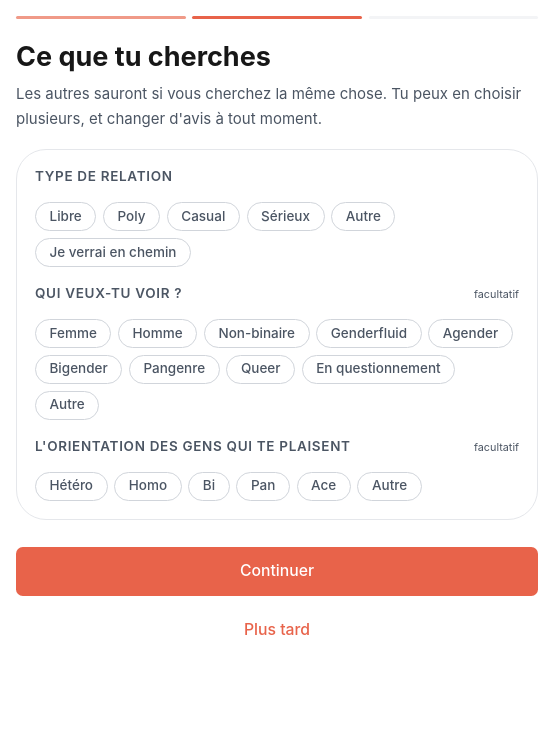
Test: <StepSeeking /> — réciprocité (#519) › un critère par côté : déclarer le genre n'ouvre pas le filtre orientation
The image size is (555, 730).
Step 1. Click the button "Hétéro" → click(71, 486), box [35,472,108,501]
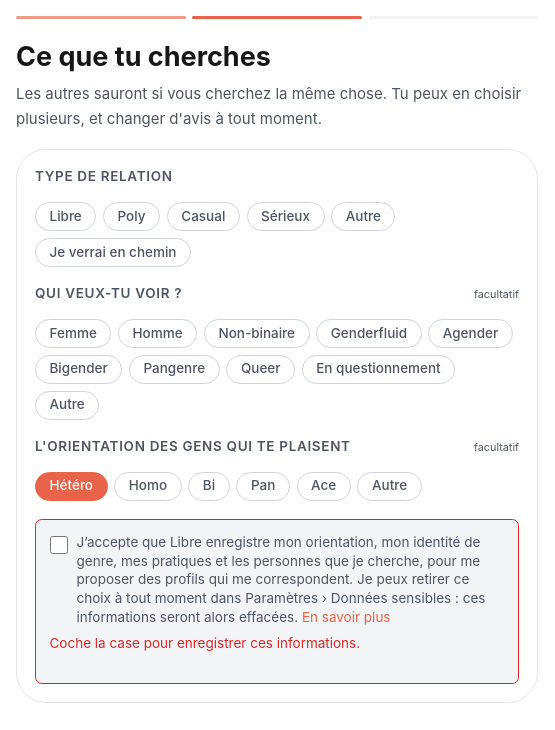
Step 2. Click the button "Femme" → click(73, 334), box [35,319,111,348]
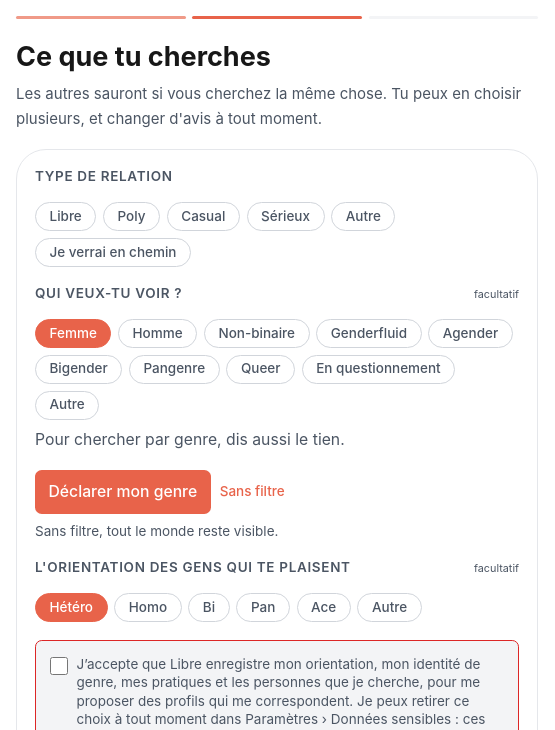
Now the text "Pour chercher par genre, dis aussi le tien." is shown, box [35,430,345,449]
